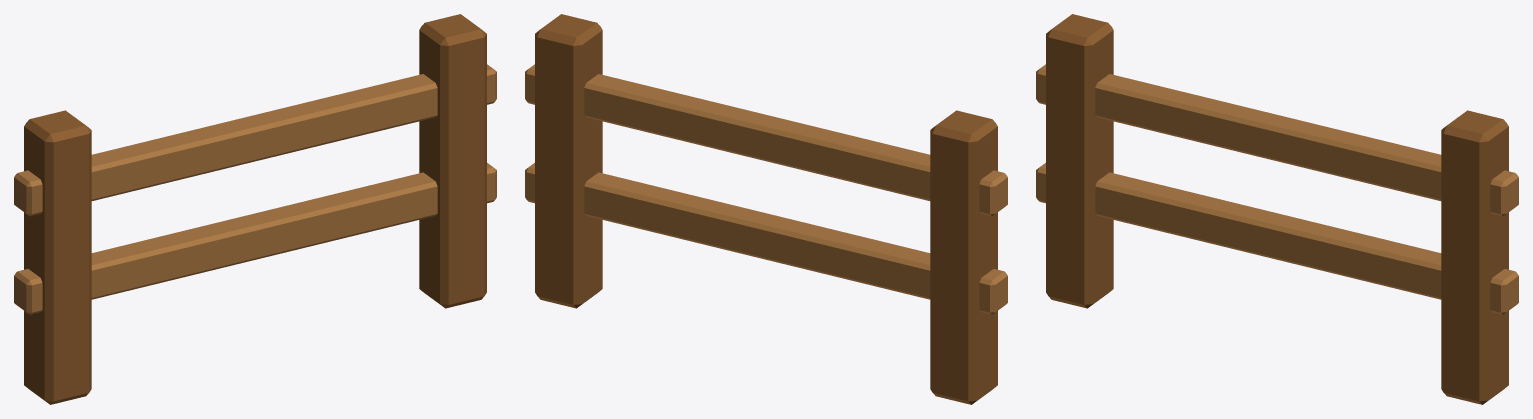
File: fence.glb
The picture shows the model from 3 angles, left to right: view 1: azimuth 30°, elevation 25°; view 2: azimuth 150°, elevation 25°; view 3: azimuth 330°, elevation 25°; orthographic projection.
Visible parts, largest first — view 1: Rail2, Rail1, PostA, PostB; view 2: Rail2, Rail1, PostA, PostB; view 3: Rail2, Rail1, PostB, PostA.
Boxes of the visible parts, <box> form: Rail2: <box>14,163,496,314</box>; Rail1: <box>14,64,496,216</box>; PostA: <box>24,110,91,404</box>; PostB: <box>419,14,486,308</box>; Rail2: <box>525,163,1007,314</box>; Rail1: <box>525,64,1007,216</box>; PostA: <box>930,110,997,404</box>; PostB: <box>535,14,602,308</box>; Rail2: <box>1036,163,1518,314</box>; Rail1: <box>1036,64,1518,216</box>; PostB: <box>1441,110,1508,404</box>; PostA: <box>1046,14,1113,308</box>.
Bounding box in the file's own units: 1 × 0.55 × 0.1.
